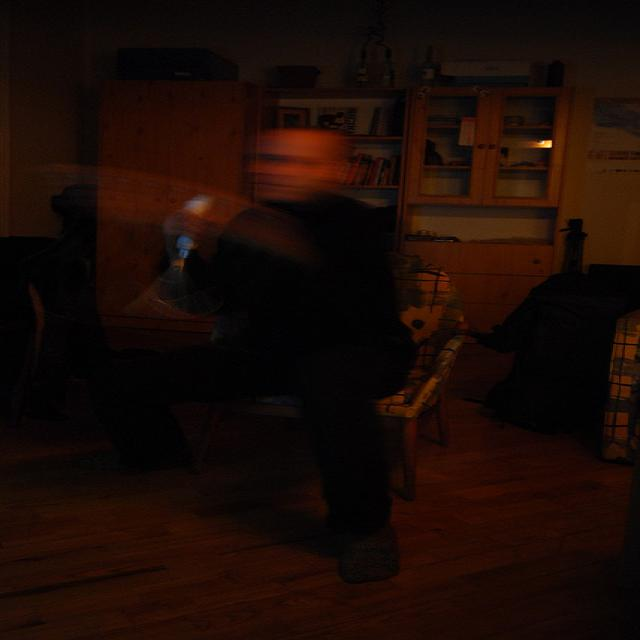People: (186, 80, 403, 623)
chair: (76, 228, 498, 491)
